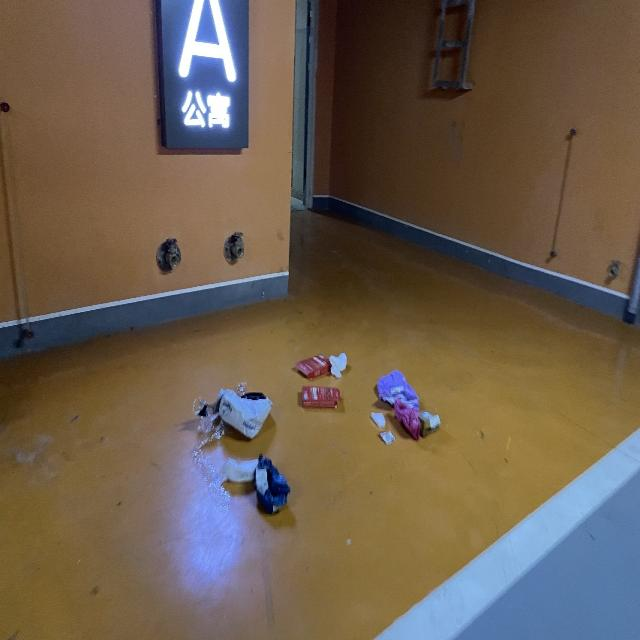garbage: (193, 349, 290, 516), (369, 369, 439, 443), (294, 352, 345, 409)
